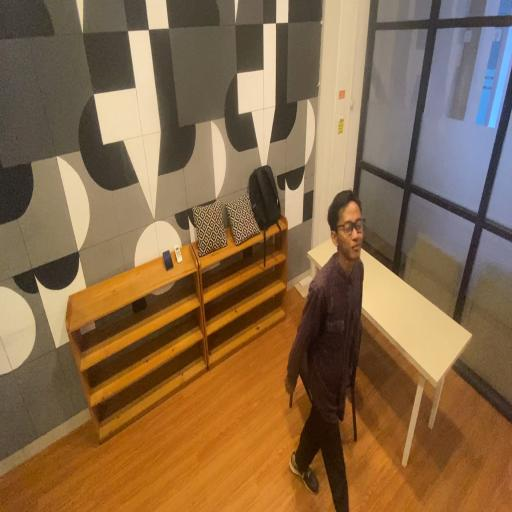bantal: (192, 198, 227, 258), (226, 193, 260, 247)
hp: (162, 248, 174, 273)
lemari: (64, 240, 207, 448)
remote AC: (174, 242, 184, 265)
tas ransel: (247, 163, 284, 228)
